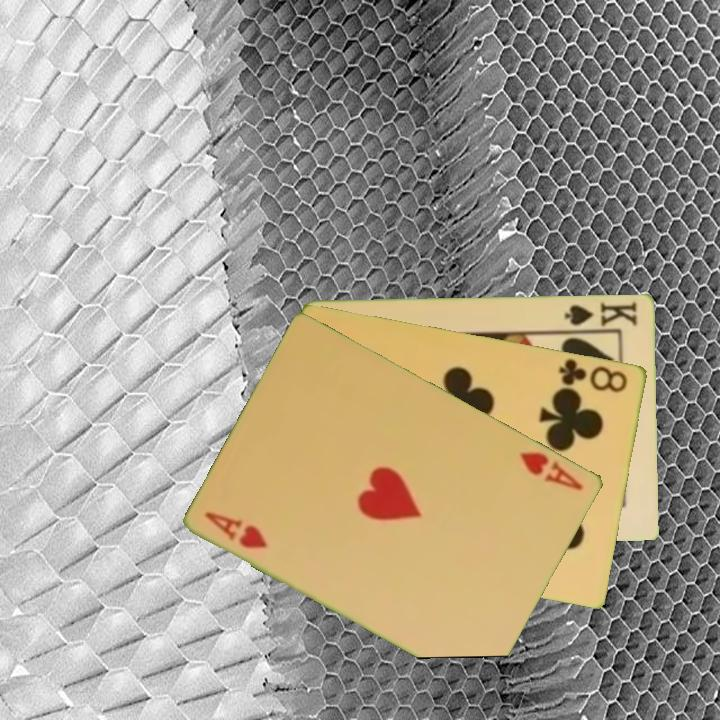8c: (555, 354, 631, 395)
Ah: (517, 448, 587, 494), (201, 508, 271, 552)
Ks: (561, 298, 640, 332)
